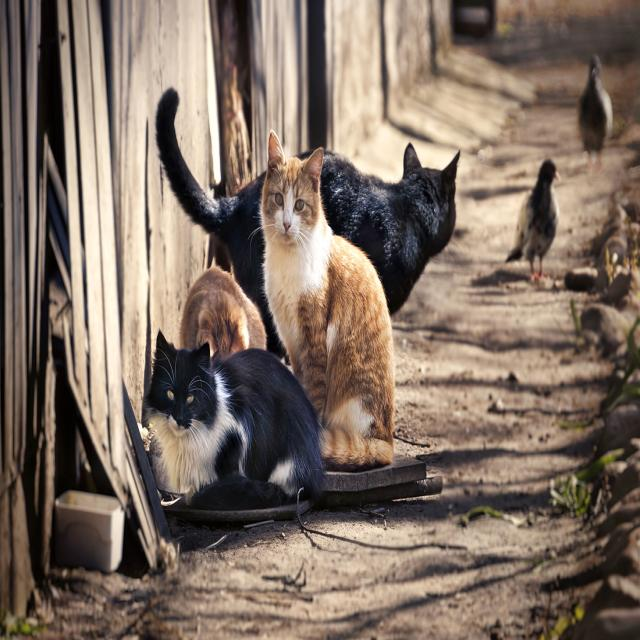cat: (260, 131, 394, 470), (156, 88, 288, 357), (145, 333, 324, 510), (321, 144, 459, 313), (180, 266, 266, 356)
